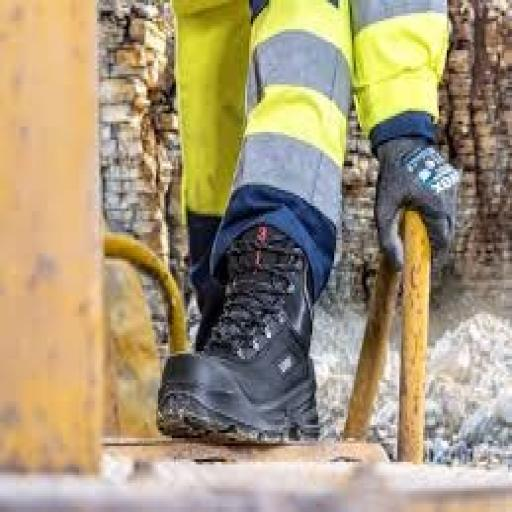safety_boots: (153, 236, 337, 448)
